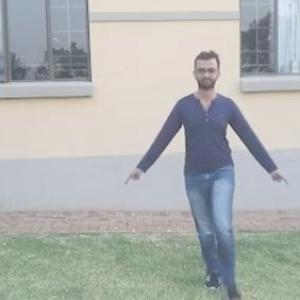land: (148, 70, 268, 252)
